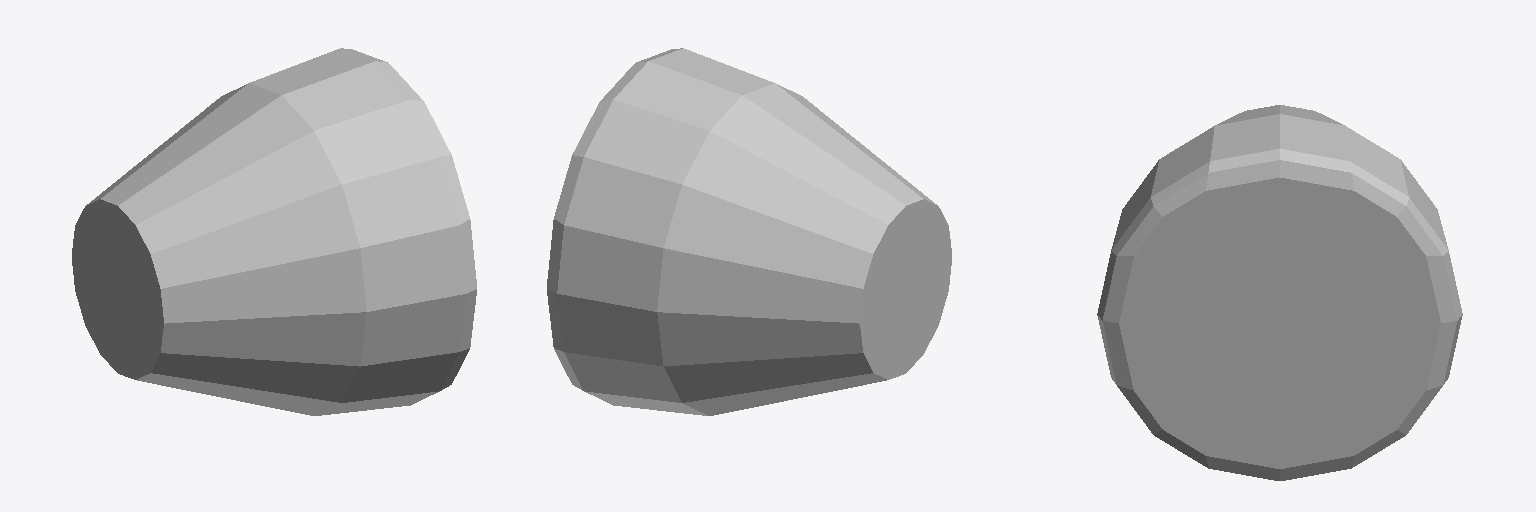
The model's file is SnekBodyorangeLP.obj.
The picture shows the model from 3 angles: view 1: azimuth 30°, elevation 25°; view 2: azimuth 150°, elevation 25°; view 3: azimuth 270°, elevation 25°; orthographic projection.
Parts seen in each view (by area): view 1: SegmentBlueLP; view 2: SegmentBlueLP; view 3: SegmentBlueLP.
Part boxes in pixels (x1,y1,x2,y2): SegmentBlueLP: (72,48,476,415); SegmentBlueLP: (547,48,951,415); SegmentBlueLP: (1097,105,1462,480).
Size of the model in its own units: 0.2791 by 0.3198 by 0.3198.